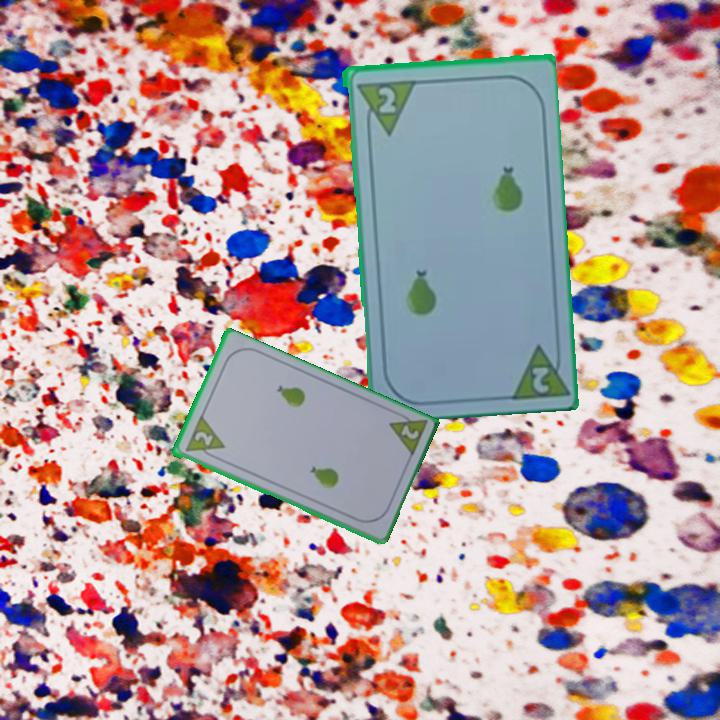2p: (503, 337, 568, 401), (352, 76, 416, 138), (397, 421, 422, 443), (190, 428, 216, 449)
